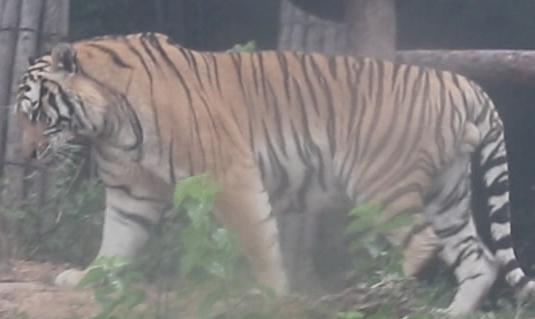tiger: (16, 32, 534, 315)
